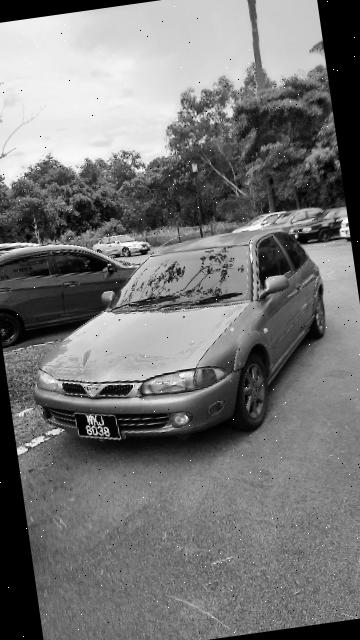License_Plate: (58, 403, 128, 455)
car: (16, 223, 344, 460), (1, 215, 173, 344)
